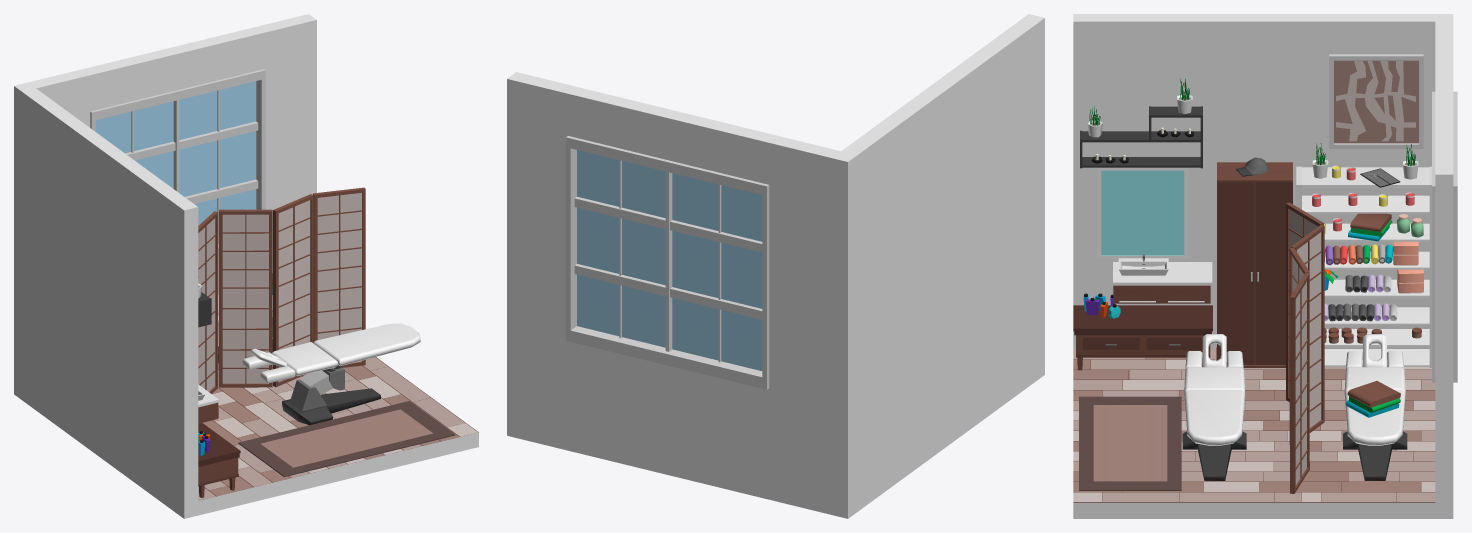
The model's file is room_7.glb.
3 renders of one model, left to right at view 1: azimuth 30°, elevation 25°; view 2: azimuth 150°, elevation 25°; view 3: azimuth 270°, elevation 25°, orthographic. The views are drawn at different scales.
Visible parts, largest first — view 1: Walls_006.024, shelf_058.001, window_018.001, Walls_006.023, floor_018.003, bathroom_item_027.001, carpet_001.005, Walls_006.027, Walls_056.006, Walls_006.025, shelf_021.001, bathroom_item_004.001; view 2: Walls_006.024, window_018.001, Walls_006.025, Walls_006.023, Walls_006.026, Walls_006.027; view 3: Walls_006.024, floor_018.003, shelf_053.005, closet_008.001, carpet_001.005, shelf_058.001, picture_056.001, Walls_056.006, picture_041.004, Walls_006.023, bathroom_item_027.001, shelf_021.001 (+13 smaller).
Boxes of the visible parts, x1,y1,x2,y2 form: Walls_006.024: (14, 82, 198, 518); shelf_058.001: (198, 187, 365, 393); window_018.001: (90, 69, 265, 257); Walls_006.023: (253, 14, 316, 316); floor_018.003: (198, 337, 477, 500); bathroom_item_027.001: (242, 323, 420, 425); carpet_001.005: (238, 401, 455, 477); Walls_006.027: (84, 27, 260, 110); Walls_056.006: (198, 357, 478, 515); Walls_006.025: (28, 69, 92, 127); shelf_021.001: (198, 423, 240, 497); bathroom_item_004.001: (198, 384, 219, 423); Walls_006.024: (831, 14, 1044, 518); window_018.001: (566, 136, 769, 389); Walls_006.025: (767, 135, 840, 514); Walls_006.023: (507, 72, 580, 451); Walls_006.026: (572, 342, 766, 498); Walls_006.027: (572, 88, 775, 184); Walls_006.024: (1073, 14, 1453, 349); floor_018.003: (1073, 349, 1435, 501); shelf_053.005: (1296, 166, 1431, 367); closet_008.001: (1216, 162, 1292, 367); carpet_001.005: (1079, 396, 1181, 490); shelf_058.001: (1286, 202, 1324, 493); picture_056.001: (1329, 54, 1423, 148); Walls_056.006: (1073, 358, 1435, 518); picture_041.004: (1097, 167, 1188, 258); Walls_006.023: (1435, 144, 1453, 518); bathroom_item_027.001: (1182, 334, 1246, 480); shelf_021.001: (1073, 305, 1212, 370).
Size of the model in its own units: 4.2 by 4.2 by 4.25.
1 material, 1 textured.
